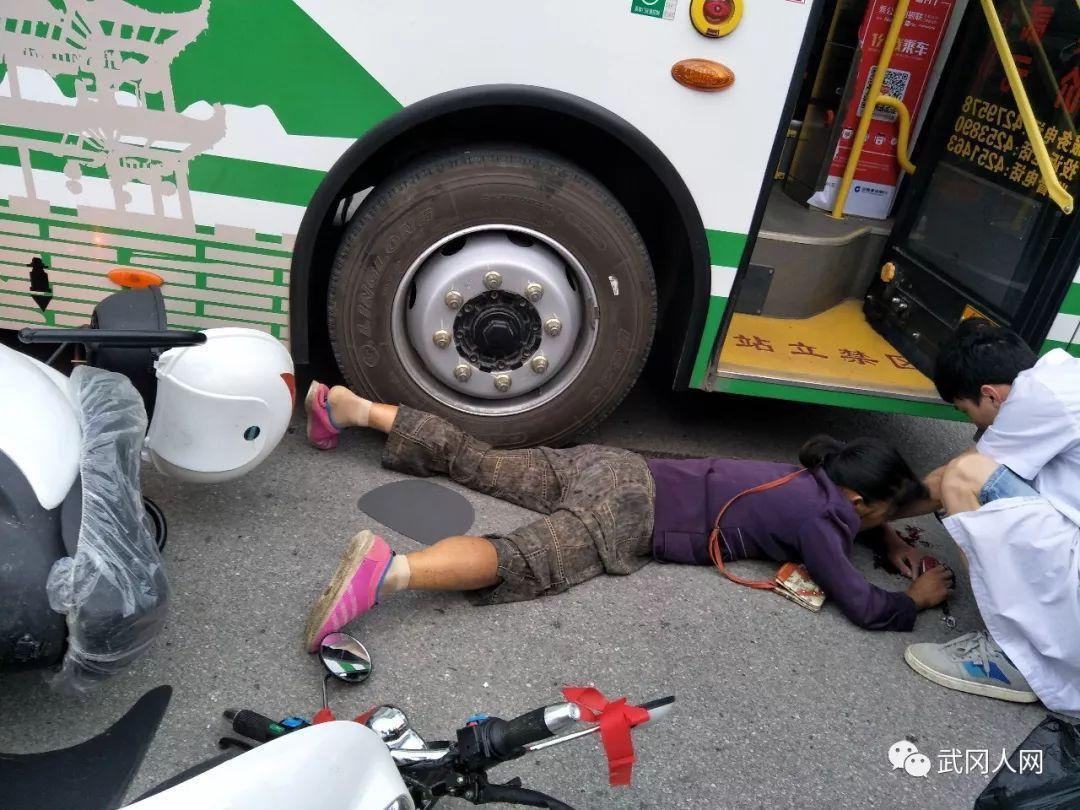Fall-Detected: (295, 357, 980, 679)
